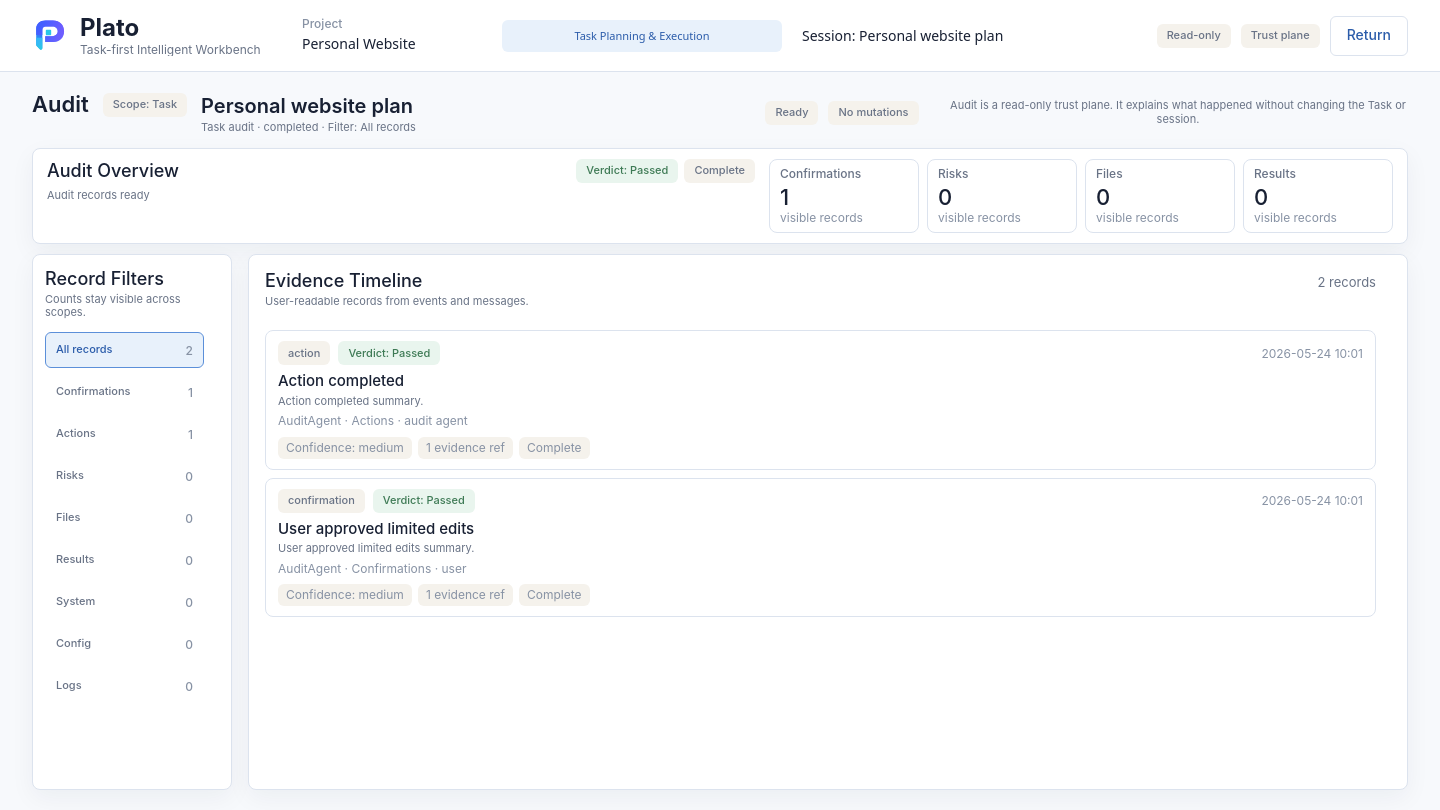
Test case: App routing › keeps Audit return workspace and task target during SPA navigation
The width and height of the screenshot is (1440, 810).
expect the heading "Audit" is shown: met, box 32,91 -> 89,118
Click the button "Return" at [1369, 36], box 1330,16 -> 1408,56
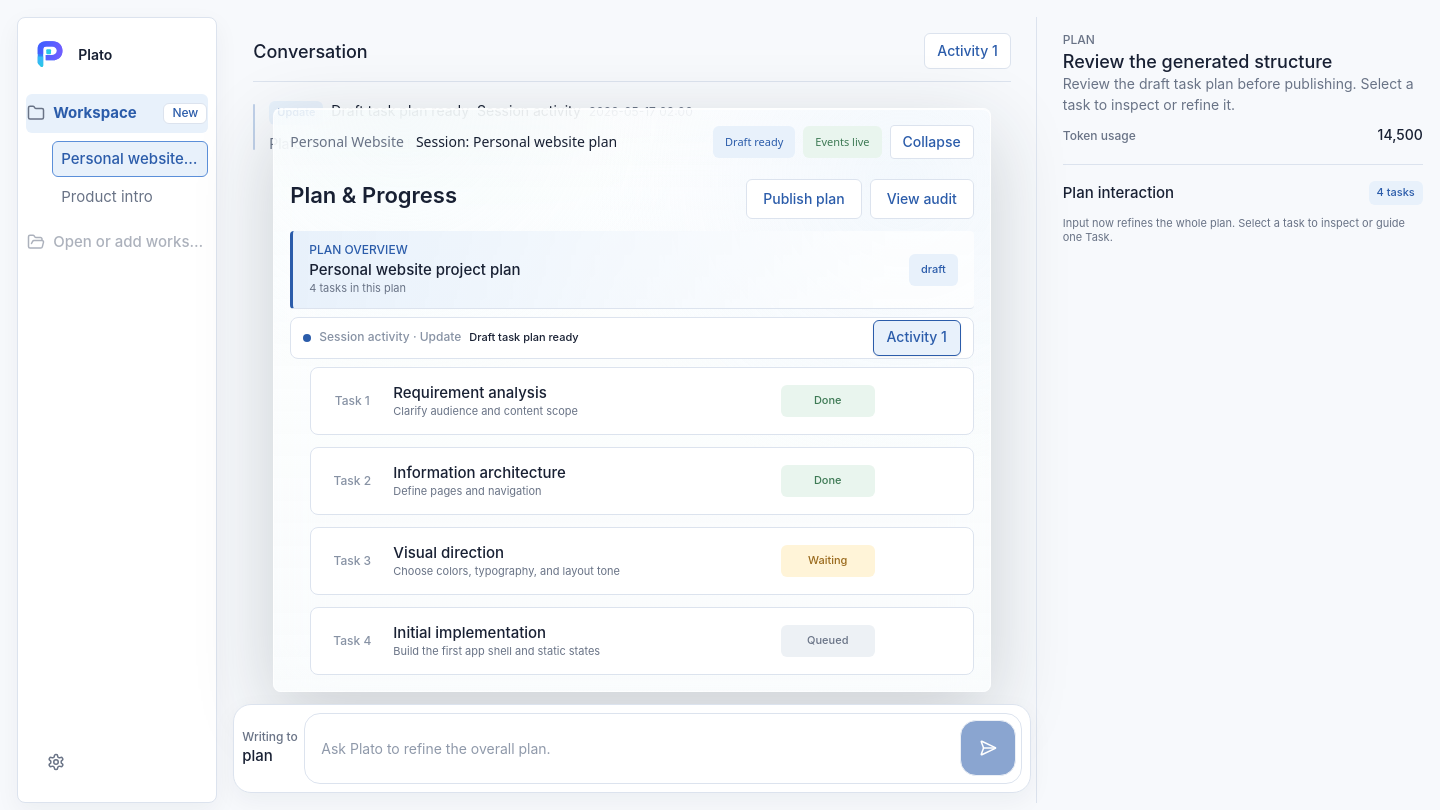
expect the heading "Plan & Progress" is shown: met, box 290,182 -> 457,209
